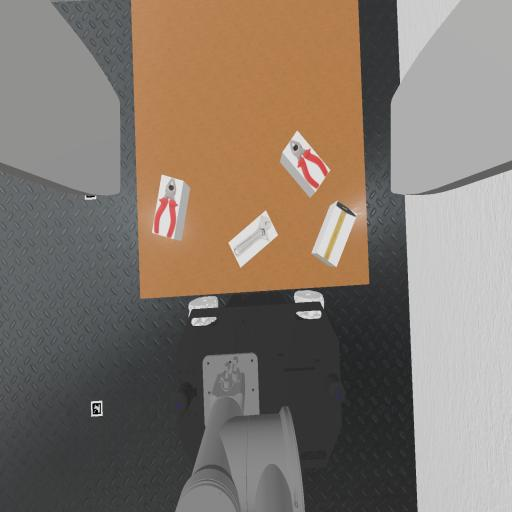hammer: (325, 202, 355, 258)
pliers: (290, 140, 327, 187), (154, 178, 178, 238)
wrench: (234, 217, 271, 255)
